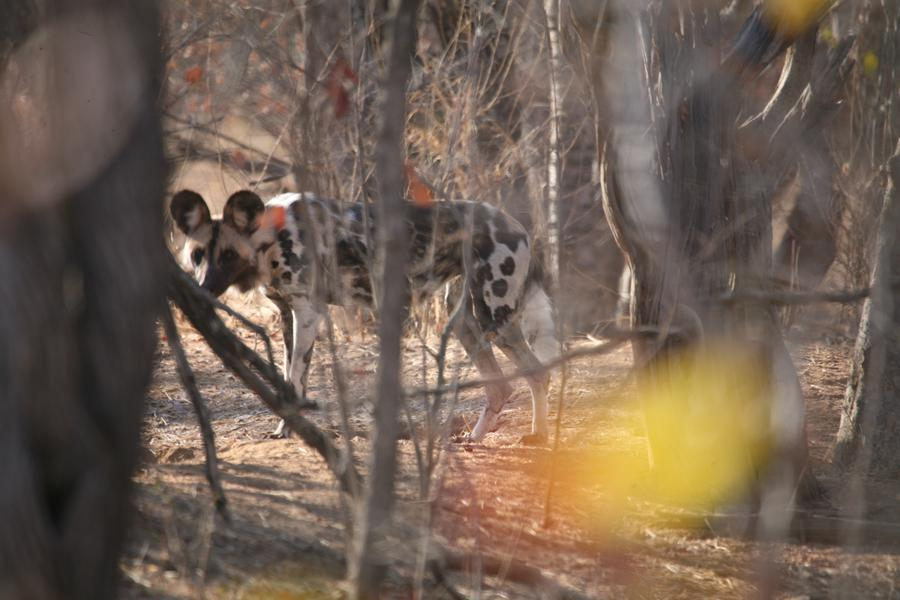wilddog: (198, 187, 540, 341)
